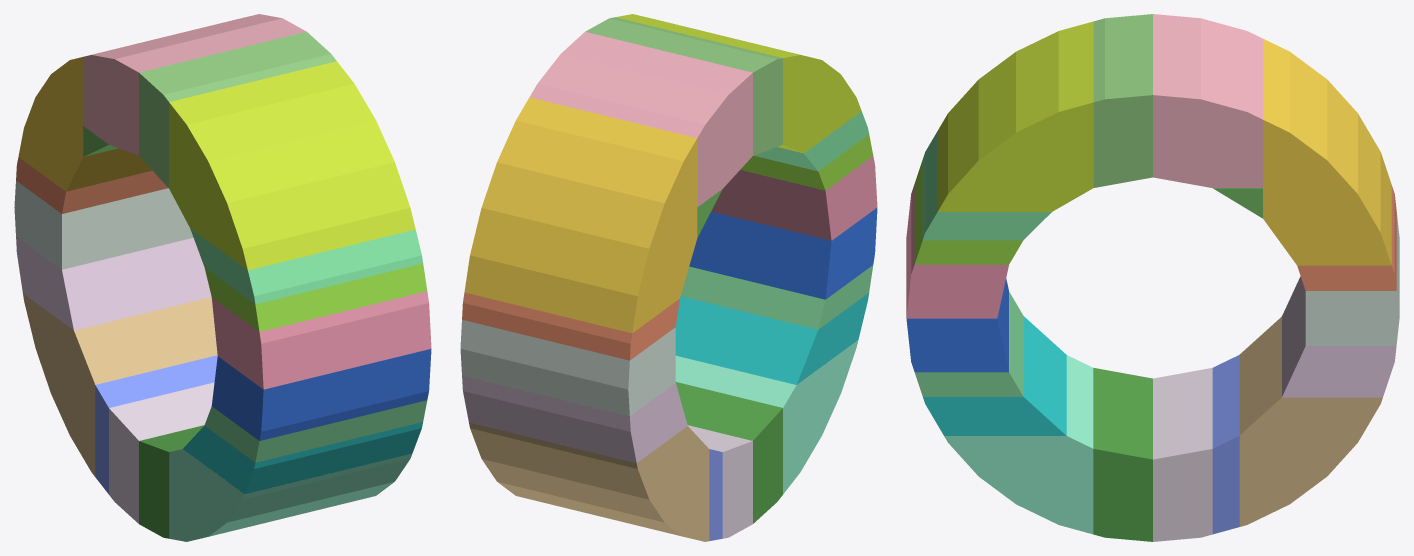
The model's file is hoop_hulls.fbx.
3 renders of one model, left to right at view 1: azimuth 30°, elevation 25°; view 2: azimuth 150°, elevation 25°; view 3: azimuth 270°, elevation 25°, orthographic.
Visible parts, largest first — view 1: UCX_Hoop_6, UCX_Hoop_7, UCX_Hoop_18, UCX_Hoop_2, UCX_Hoop_16, UCX_Hoop_5, UCX_Hoop_4, UCX_Hoop_12, UCX_Hoop_17, UCX_Hoop_0, UCX_Hoop_13, UCX_Hoop_3 (+7 smaller); view 2: UCX_Hoop_0, UCX_Hoop_4, UCX_Hoop_7, UCX_Hoop_12, UCX_Hoop_16, UCX_Hoop_2, UCX_Hoop_3, UCX_Hoop_5, UCX_Hoop_18, UCX_Hoop_6, UCX_Hoop_17, UCX_Hoop_1 (+6 smaller); view 3: UCX_Hoop_6, UCX_Hoop_0, UCX_Hoop_4, UCX_Hoop_7, UCX_Hoop_5, UCX_Hoop_1, UCX_Hoop_14, UCX_Hoop_17, UCX_Hoop_3, UCX_Hoop_2, UCX_Hoop_18, UCX_Hoop_16 (+7 smaller).
Part boxes in pixels (x1,y1,x2,y2): UCX_Hoop_6: [169, 61, 415, 270]; UCX_Hoop_7: [23, 293, 217, 476]; UCX_Hoop_18: [211, 291, 431, 389]; UCX_Hoop_2: [16, 236, 211, 330]; UCX_Hoop_16: [211, 348, 431, 440]; UCX_Hoop_5: [169, 449, 412, 541]; UCX_Hoop_4: [83, 14, 306, 155]; UCX_Hoop_12: [14, 181, 193, 269]; UCX_Hoop_17: [139, 31, 336, 187]; UCX_Hoop_0: [18, 19, 237, 191]; UCX_Hoop_13: [190, 228, 423, 304]; UCX_Hoop_3: [183, 422, 422, 494]; UCX_Hoop_0: [464, 97, 697, 333]; UCX_Hoop_4: [530, 31, 752, 206]; UCX_Hoop_7: [469, 422, 709, 541]; UCX_Hoop_12: [460, 320, 675, 416]; UCX_Hoop_16: [689, 208, 877, 299]; UCX_Hoop_2: [462, 375, 687, 463]; UCX_Hoop_3: [675, 293, 868, 384]; UCX_Hoop_5: [675, 340, 858, 494]; UCX_Hoop_18: [711, 156, 877, 240]; UCX_Hoop_6: [615, 14, 861, 153]; UCX_Hoop_17: [585, 17, 782, 155]; UCX_Hoop_1: [675, 382, 782, 523]; UCX_Hoop_6: [937, 21, 1093, 211]; UCX_Hoop_0: [1263, 38, 1391, 265]; UCX_Hoop_4: [1153, 14, 1262, 187]; UCX_Hoop_7: [1239, 316, 1382, 526]; UCX_Hoop_5: [944, 355, 1093, 534]; UCX_Hoop_1: [1093, 367, 1152, 541]; UCX_Hoop_14: [1153, 368, 1212, 541]; UCX_Hoop_17: [1093, 14, 1152, 187]; UCX_Hoop_3: [923, 316, 1066, 435]; UCX_Hoop_2: [1282, 276, 1396, 397]; UCX_Hoop_18: [906, 184, 1008, 318]; UCX_Hoop_16: [906, 278, 1008, 372].
Bounding box in the file's own units: 105 × 271 × 271.
